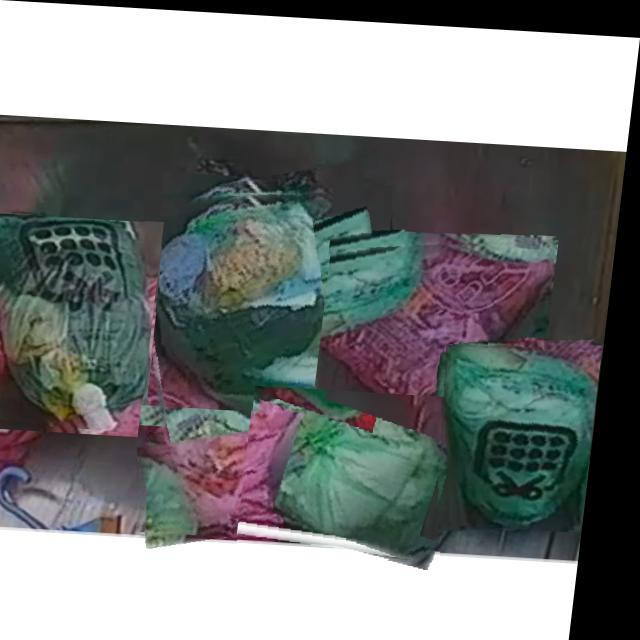general_trashbag: (258, 385, 456, 555), (0, 217, 158, 430), (453, 339, 604, 521)
other_trashbag: (145, 190, 397, 412), (328, 238, 557, 418), (150, 425, 303, 534)
